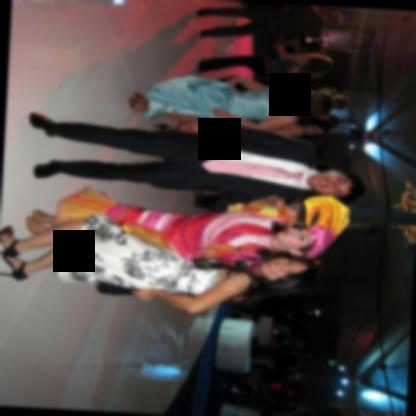handbag: (94, 282, 133, 296)
